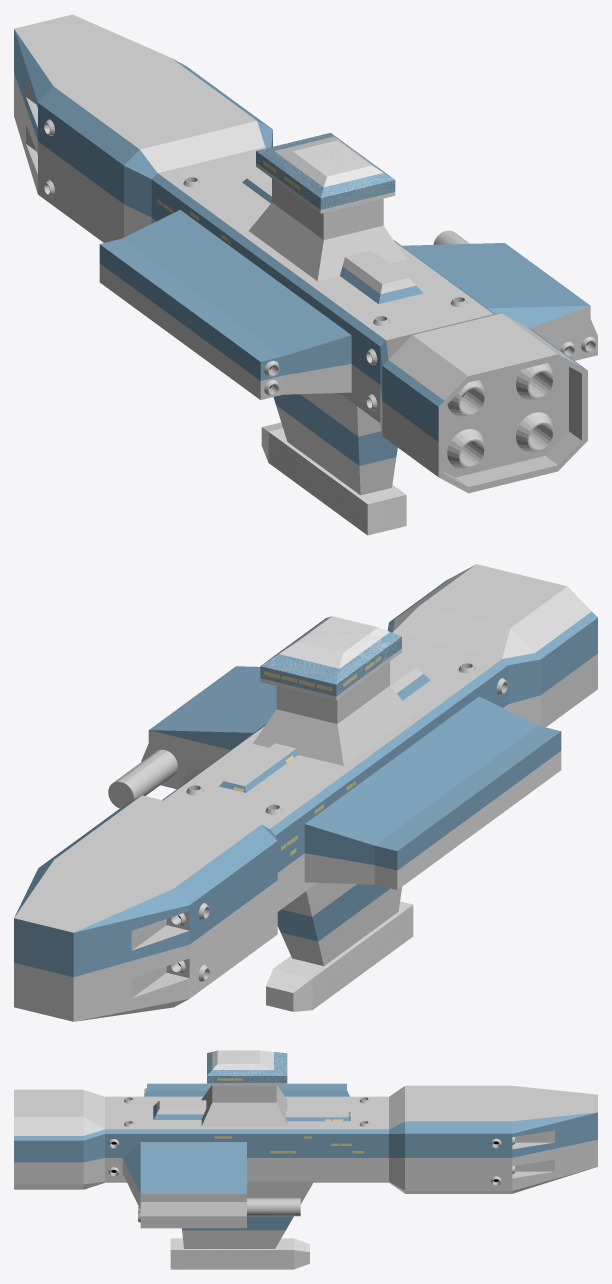
The model's file is Cruiser.fbx.
3 renders of one model, top to bottom at view 1: azimuth 30°, elevation 25°; view 2: azimuth 150°, elevation 25°; view 3: azimuth 270°, elevation 25°, orthographic. The views are drawn at different scales.
Parts seen in each view (by area): view 1: SketchUp_009, SketchUp_007, SketchUp_011, SketchUp_030, SketchUp_022, SketchUp_018, SketchUp_017, SketchUp_307, SketchUp_020, SketchUp_014, SketchUp_010, SketchUp_303 (+8 smaller); view 2: SketchUp_007, SketchUp_009, SketchUp_011, SketchUp_022, SketchUp_018, SketchUp_017, SketchUp_307, SketchUp_014, SketchUp_008, SketchUp_020, SketchUp_303, SketchUp_033 (+3 smaller); view 3: SketchUp_007, SketchUp_009, SketchUp_011, SketchUp_022, SketchUp_021, SketchUp_017, SketchUp_014, SketchUp_019, SketchUp_033, SketchUp_020, SketchUp_295, SketchUp_294.
Boxes of the visible parts, x1=… form: SketchUp_009: x1=14, y1=29, x2=589, y2=441; SketchUp_007: x1=14, y1=14, x2=597, y2=476; SketchUp_011: x1=247, y1=173, x2=415, y2=294; SketchUp_030: x1=444, y1=360, x2=581, y2=486; SketchUp_022: x1=261, y1=422, x2=406, y2=535; SketchUp_018: x1=38, y1=141, x2=123, y2=242; SketchUp_017: x1=256, y1=133, x2=395, y2=209; SketchUp_307: x1=99, y1=263, x2=260, y2=399; SketchUp_020: x1=273, y1=394, x2=397, y2=465; SketchUp_014: x1=274, y1=136, x2=383, y2=187; SketchUp_010: x1=438, y1=354, x2=587, y2=493; SketchUp_303: x1=276, y1=405, x2=360, y2=494; SketchUp_007: x1=14, y1=564, x2=597, y2=1021; SketchUp_009: x1=14, y1=578, x2=597, y2=977; SketchUp_011: x1=224, y1=661, x2=423, y2=785; SketchUp_022: x1=266, y1=901, x2=413, y2=1011; SketchUp_018: x1=189, y1=880, x2=277, y2=998; SketchUp_017: x1=260, y1=617, x2=401, y2=696; SketchUp_307: x1=397, y1=751, x2=561, y2=889; SketchUp_014: x1=279, y1=616, x2=389, y2=668; SketchUp_008: x1=277, y1=704, x2=508, y2=911; SketchUp_020: x1=277, y1=884, x2=390, y2=941; SketchUp_303: x1=318, y1=887, x2=401, y2=965; SketchUp_033: x1=108, y1=749, x2=177, y2=808; SketchUp_007: x1=14, y1=1085, x2=597, y2=1228; SketchUp_009: x1=14, y1=1083, x2=597, y2=1193; SketchUp_011: x1=156, y1=1085, x2=348, y2=1126; SketchUp_022: x1=170, y1=1238, x2=309, y2=1269; SketchUp_021: x1=182, y1=1230, x2=285, y2=1248; SketchUp_017: x1=207, y1=1052, x2=287, y2=1082; SketchUp_014: x1=212, y1=1050, x2=273, y2=1069; SketchUp_019: x1=247, y1=1182, x2=312, y2=1204; SketchUp_033: x1=247, y1=1198, x2=300, y2=1216; SketchUp_020: x1=182, y1=1216, x2=293, y2=1230; SketchUp_295: x1=153, y1=1103, x2=203, y2=1119; SketchUp_294: x1=285, y1=1111, x2=350, y2=1121.
Bounding box in the file's own units: 4.45 × 4.25 × 10.9.
